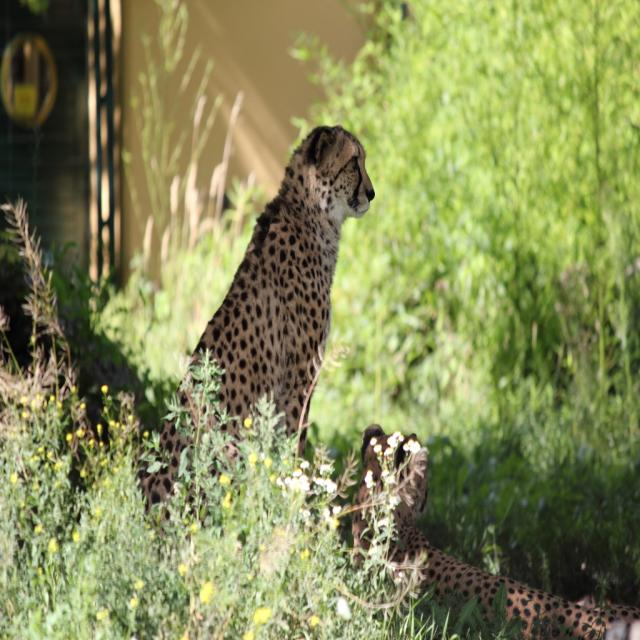Cheetah: (178, 111, 378, 501)
